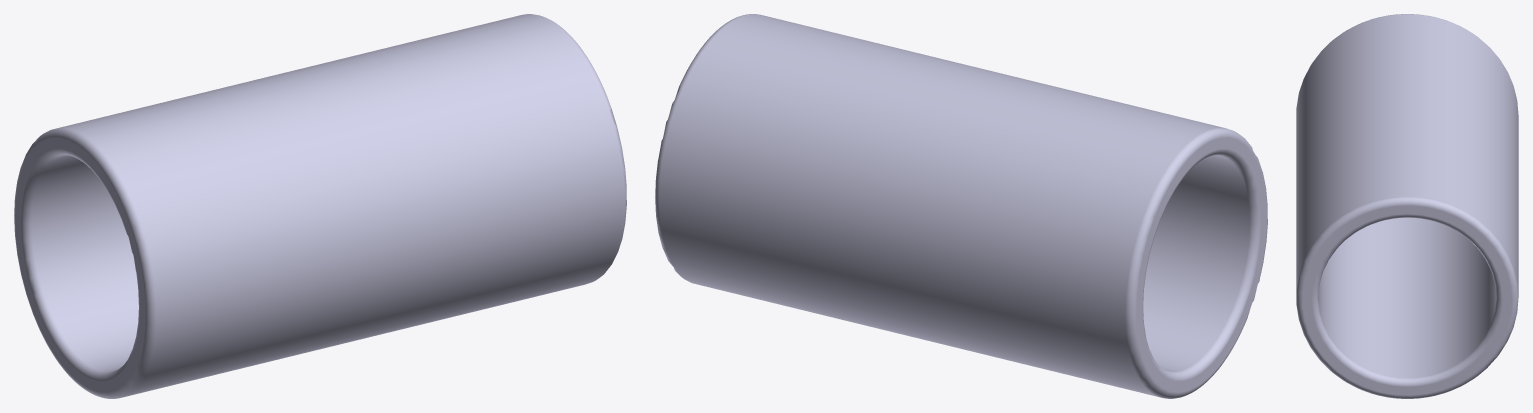
The model's file is Unnamed3-Body.gltf.
The picture shows the model from 3 angles, left to right: view 1: azimuth 30°, elevation 25°; view 2: azimuth 150°, elevation 25°; view 3: azimuth 270°, elevation 25°; orthographic projection. The views are drawn at different scales.
Parts seen in each view (by area): view 1: Body; view 2: Body; view 3: Body.
Boxes of the visible parts, <box> form: Body: <box>14,14,626,398</box>; Body: <box>655,14,1267,398</box>; Body: <box>1296,14,1518,398</box>.
Size of the model in its own units: 0.2 by 0.0999 by 0.0999.
